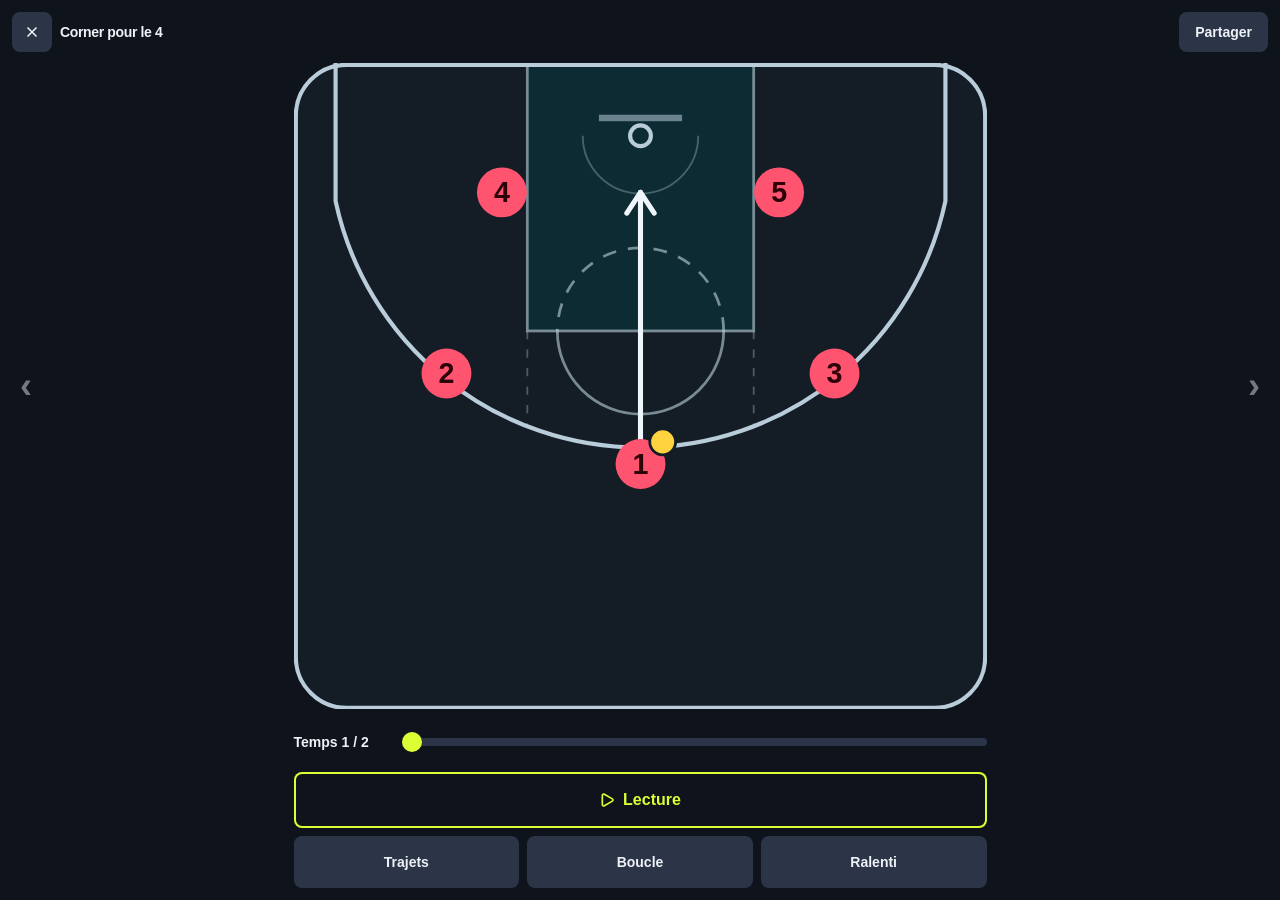
Test case: SchemaPlayer — the time-out viewer › "Play" runs the play, "Pause" leaves it where it is
The width and height of the screenshot is (1280, 900).
Expected: the picture named "tableau tactique" is shown, [294,63,986,709]
Click the button "Lecture".
click(640, 800)  # box [294,772,986,828]
Wait 750 ms
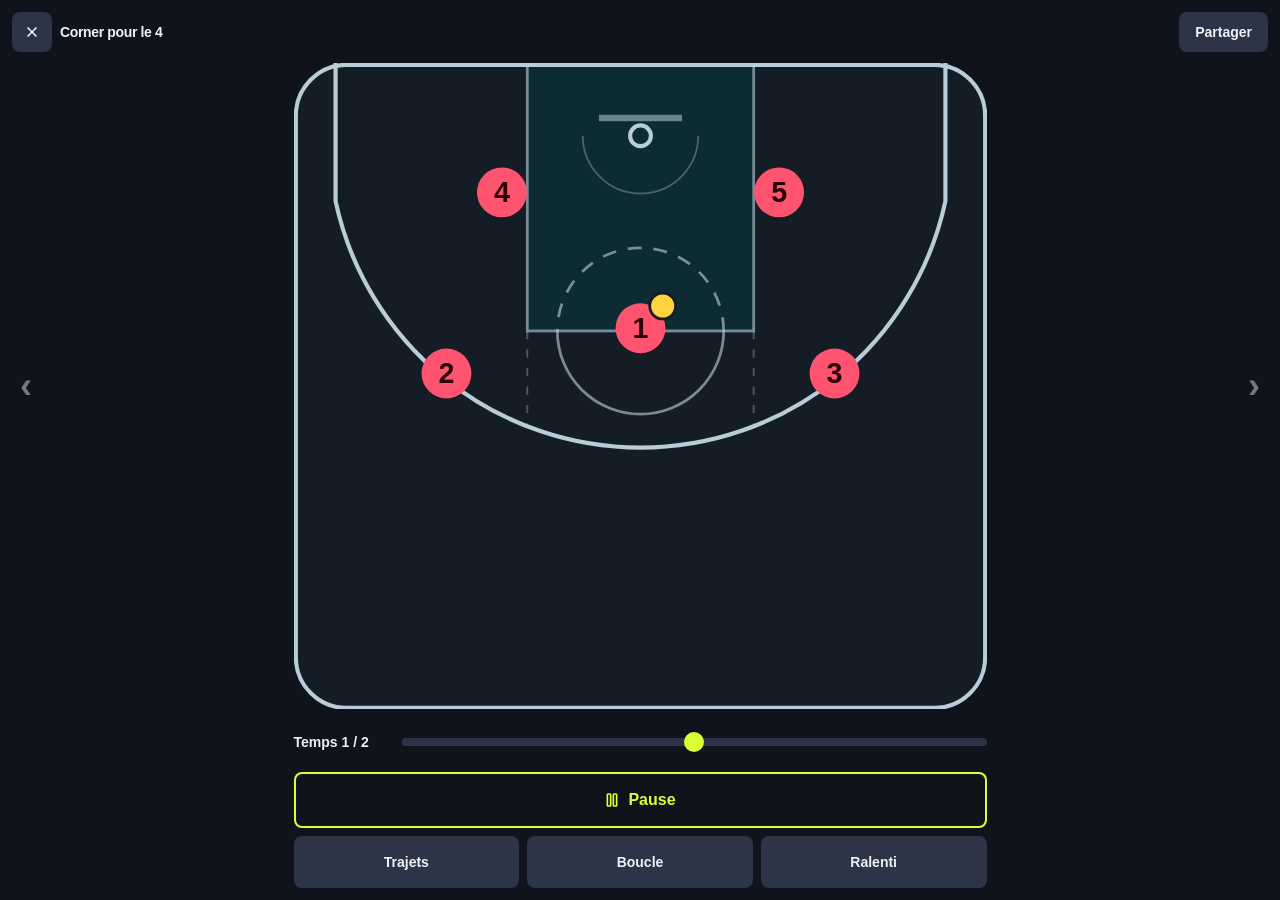
Click the button "Pause".
click(640, 800)  # box [294,772,986,828]
Wait 3000 ms
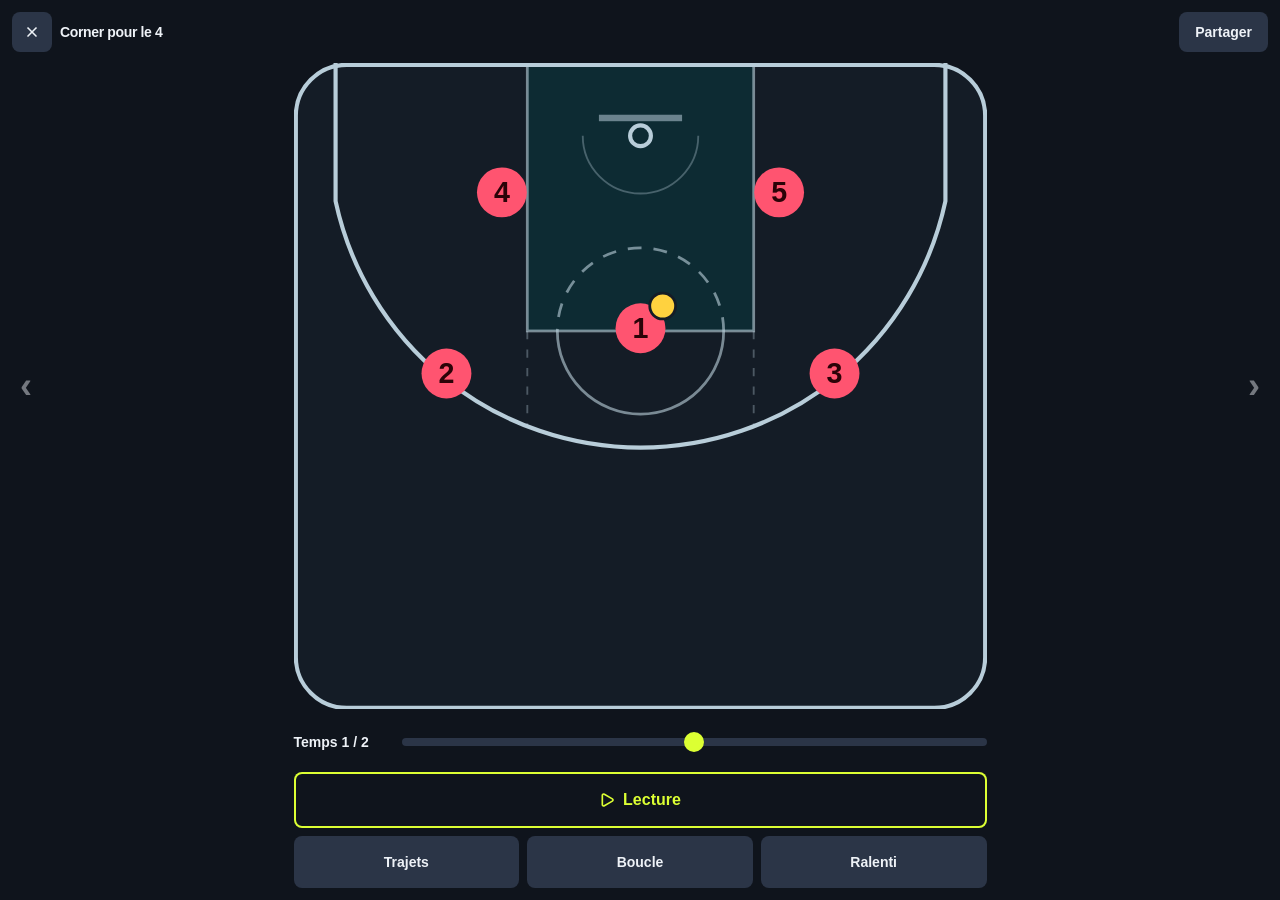
Result: the button "Lecture" is shown at [294,772,986,828]
